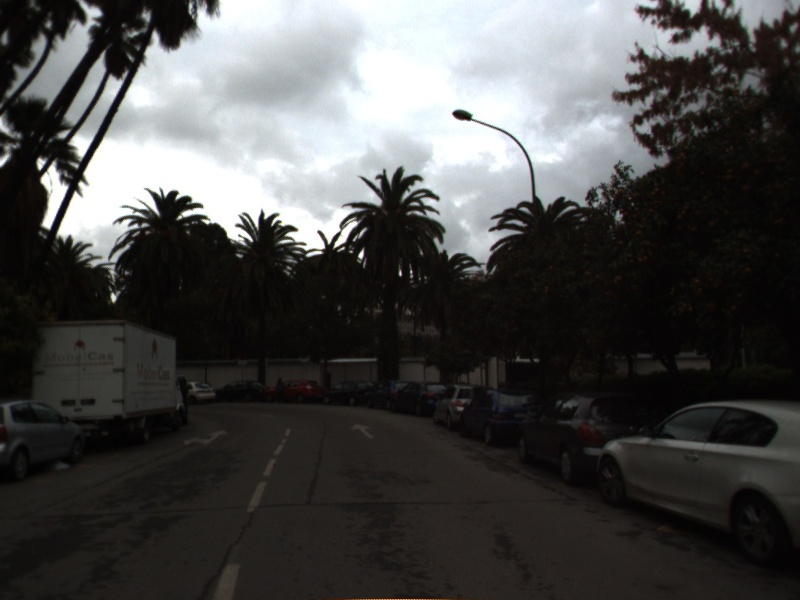STRAIGHT: (349, 422, 377, 440)
STRAIGHT_LEFT: (180, 428, 231, 449)
